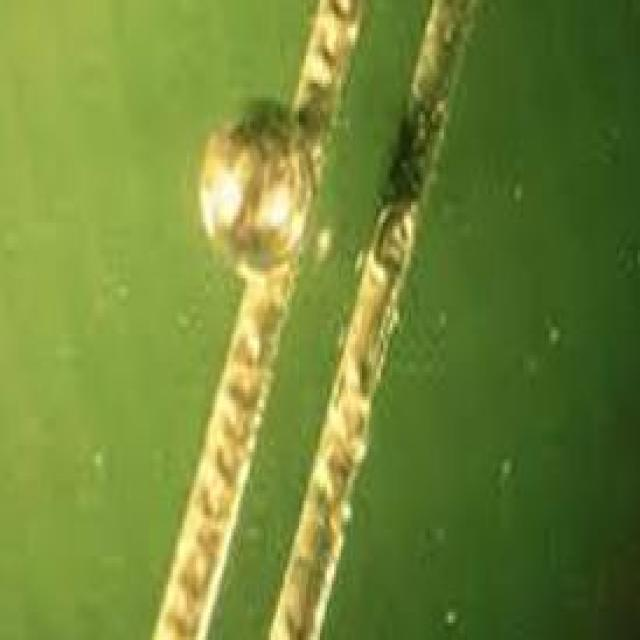slug: (197, 94, 316, 271)
